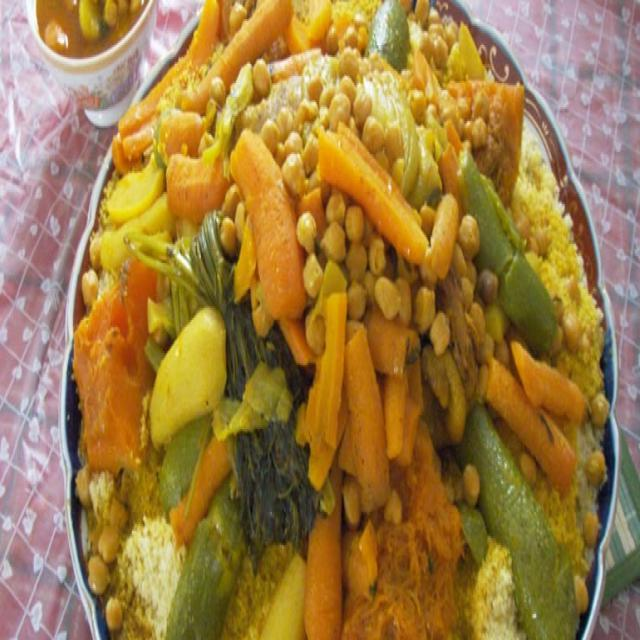Couscous: (71, 0, 607, 640)
